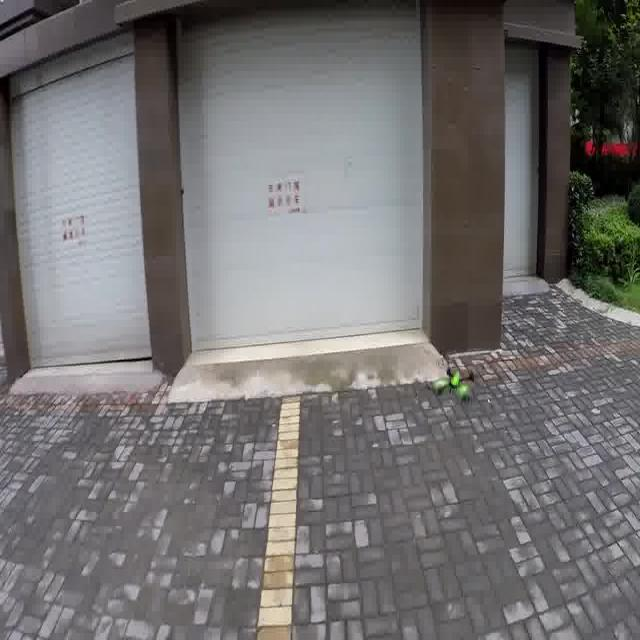drones: (426, 348, 479, 415)
